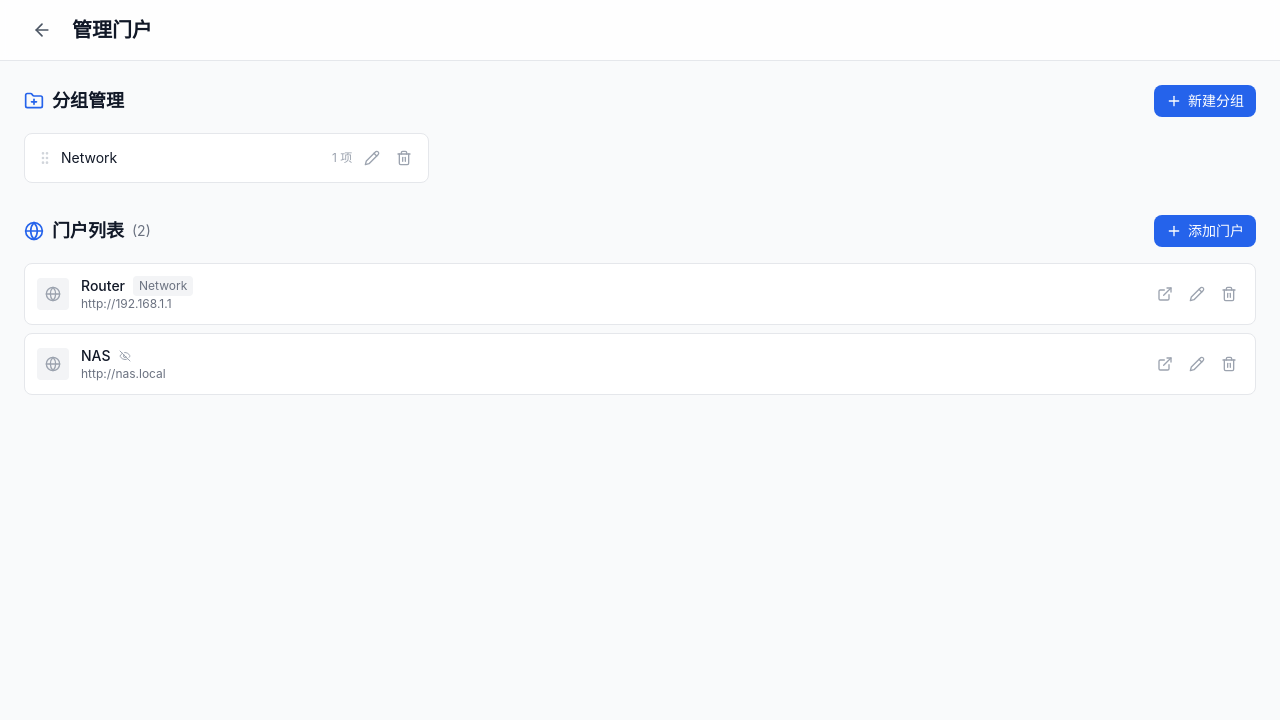
Scenario: Admin page › portal form shows cancel and save buttons
Expected: the text "Router" is shown, [81,276,125,296]
What coordinates should you click on to do the following:
click the button "添加门户"
I would click on:
 (1205, 231)
Its box is [1154,215,1256,247].
(page scrolled)
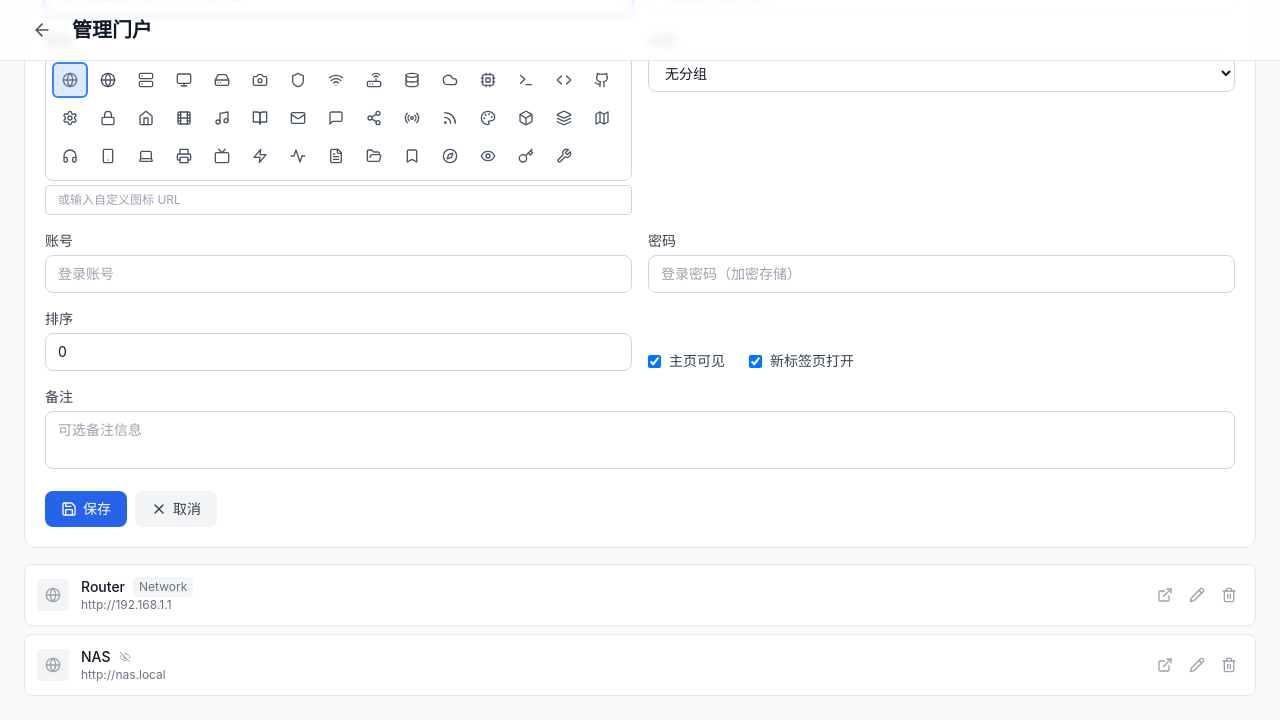
Now the button "取消" is shown, box [135,491,217,527]
Now the button "保存" is shown, box [45,491,127,527]
